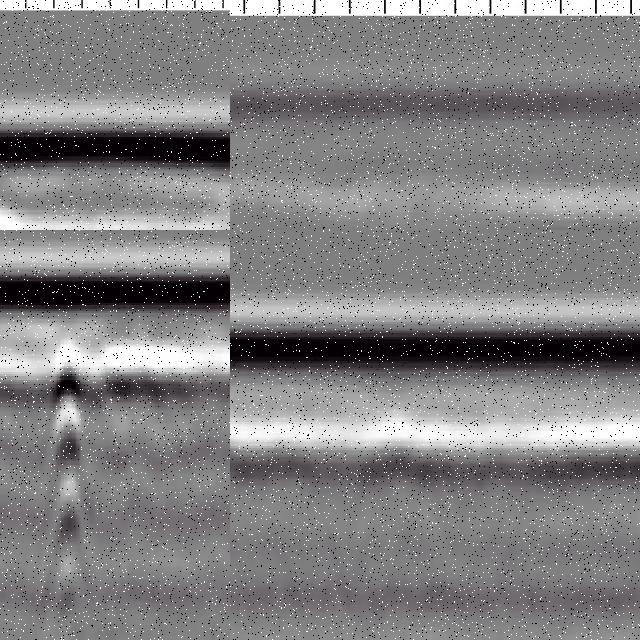crack: (48, 347, 86, 640)
